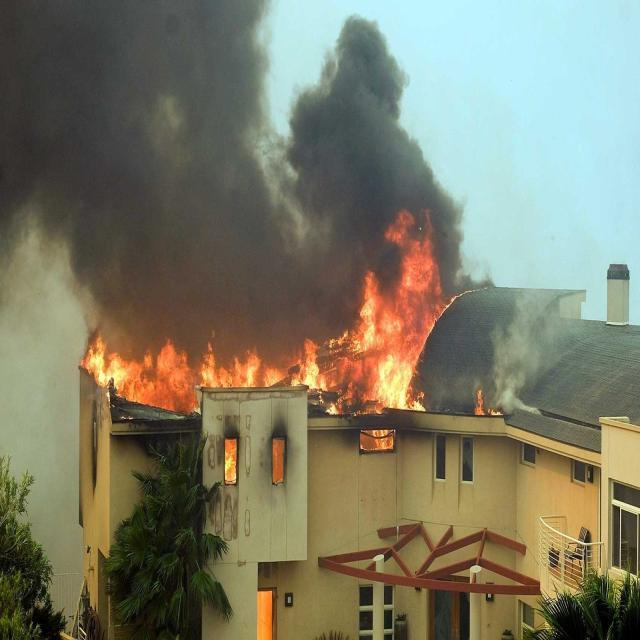Fire: (81, 208, 502, 416), (361, 428, 396, 450), (225, 446, 236, 484)
Smoke: (1, 0, 578, 418), (254, 588, 276, 640), (272, 426, 286, 488)
